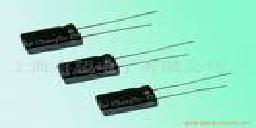Electrolytic-Capacitor: (19, 10, 167, 56), (94, 72, 234, 118), (57, 41, 203, 85)
